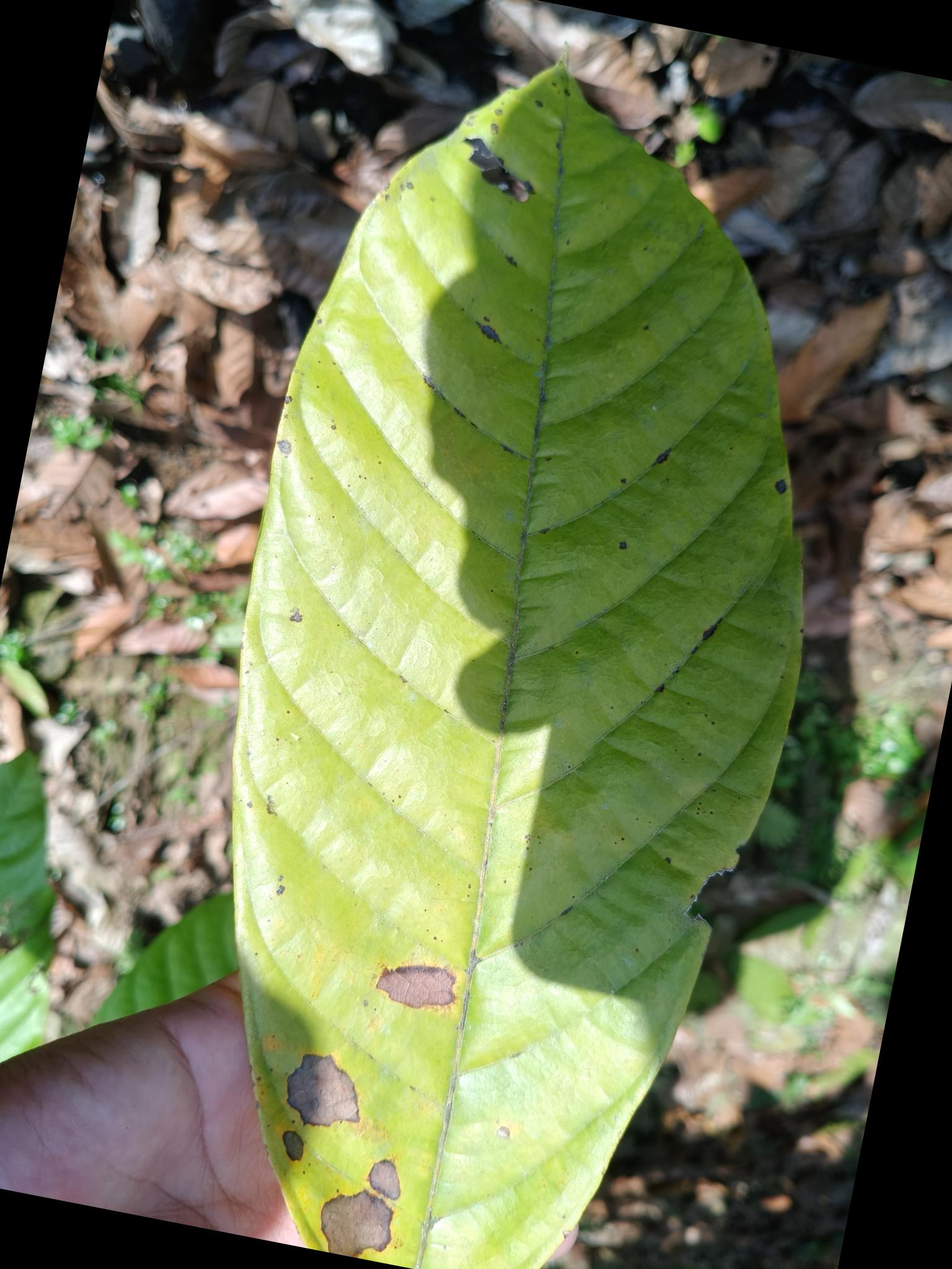Fosforo: (222, 68, 798, 1269)
